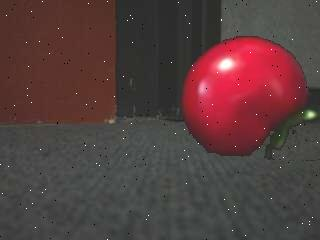Tomato: (180, 36, 320, 161)
